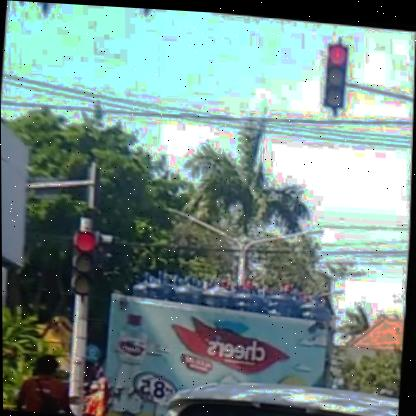Traffic Light -Red-: (70, 230, 99, 296), (323, 38, 348, 106)
